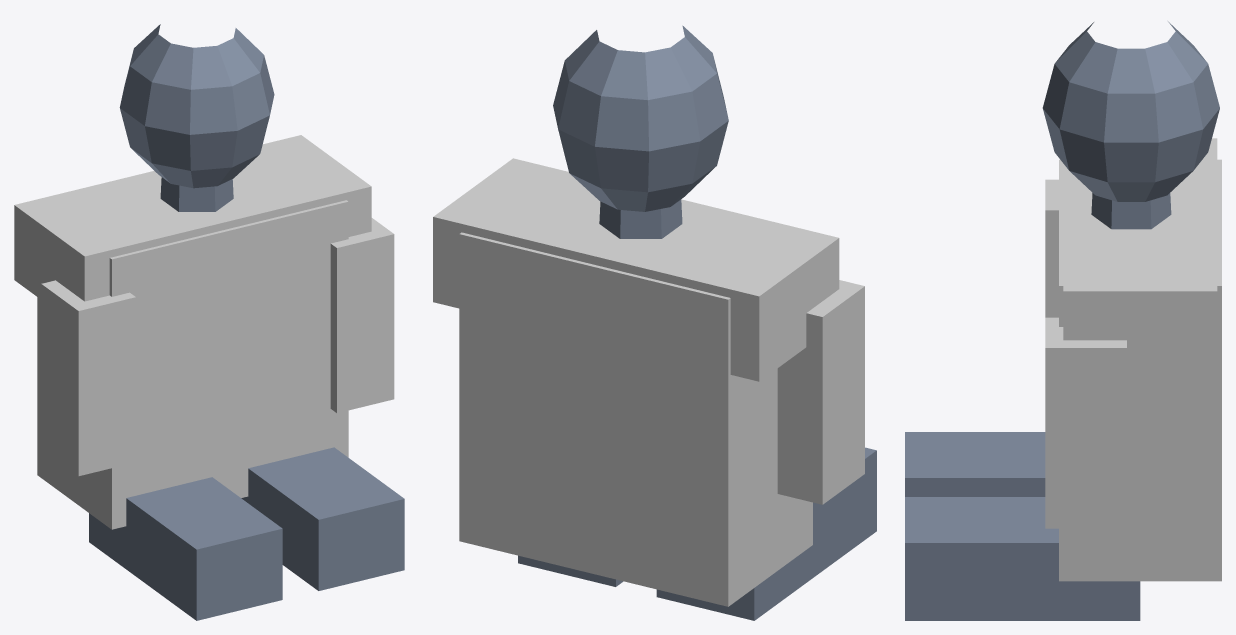
File: spectator_crowd.glb
3 renders of one model, left to right at view 1: azimuth 30°, elevation 25°; view 2: azimuth 150°, elevation 25°; view 3: azimuth 270°, elevation 25°, orthographic. The views are drawn at different scales.
Parts seen in each view (by area): view 1: Spectator_Jersey, Spectator_Body; view 2: Spectator_Jersey, Spectator_Body; view 3: Spectator_Jersey, Spectator_Body.
Boxes of the visible parts, box(x1,y1,x2,y2) form: Spectator_Jersey: box(14, 135, 394, 529); Spectator_Body: box(89, 24, 404, 620); Spectator_Jersey: box(433, 158, 864, 606); Spectator_Body: box(518, 25, 876, 620); Spectator_Jersey: box(1045, 138, 1221, 581); Spectator_Body: box(905, 21, 1219, 620).
Size of the model in its own units: 0.44 by 0.651 by 0.35.
